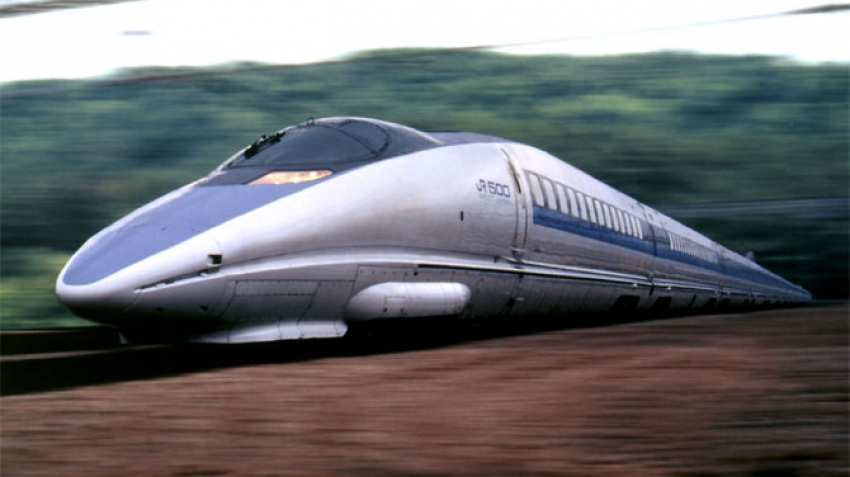train: (76, 124, 830, 368)
